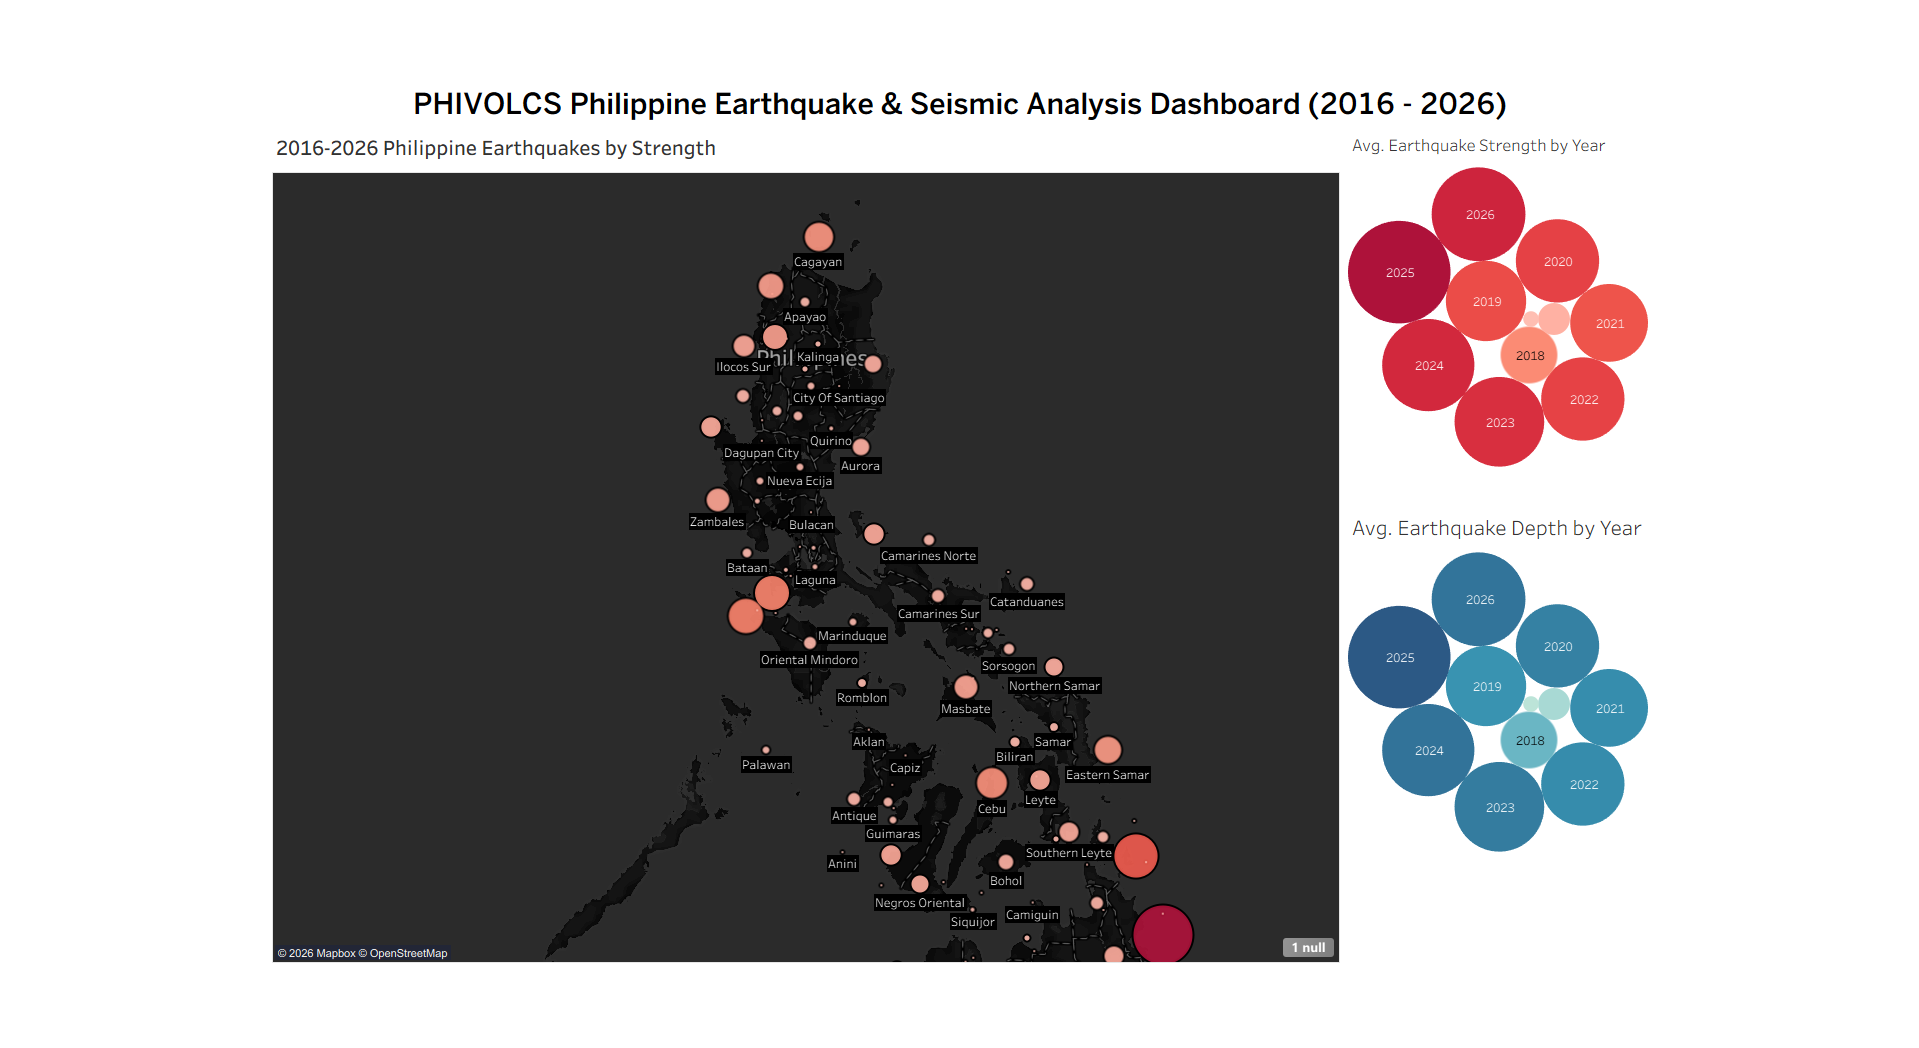

What the dashboard file says about the page in this screenshot:
{"tool":"tableau","page":{"name":"Dashboard","canvas":[1400,900],"ordinal":0},"visuals":[{"type":"text","box":[8,8,1384,42]},{"type":"worksheet","title":"Location & Strength","mark":"Automatic","rows":["Latitude"],"cols":["Longitude"],"box":[8,50,1076,842]},{"type":"worksheet","title":"Year & Strength","mark":"Circle","box":[1084,50,308,380.2]},{"type":"worksheet","title":"Average Depth In Km","mark":"Circle","box":[1084,430.2,308,461.8]}]}

Visuals, with their boxes on the page's 1400x900 design canvas (x1, y1, x2, y2). These are canvas units, not pixel positions in the 1919x1048 screenshot, which may show the page scaled, cropped or inside an application window:
text: locate(8, 8, 1392, 50)
"Location & Strength" worksheet: locate(8, 50, 1084, 892)
"Year & Strength" worksheet (Circle marks): locate(1084, 50, 1392, 430)
"Average Depth In Km" worksheet (Circle marks): locate(1084, 430, 1392, 892)
